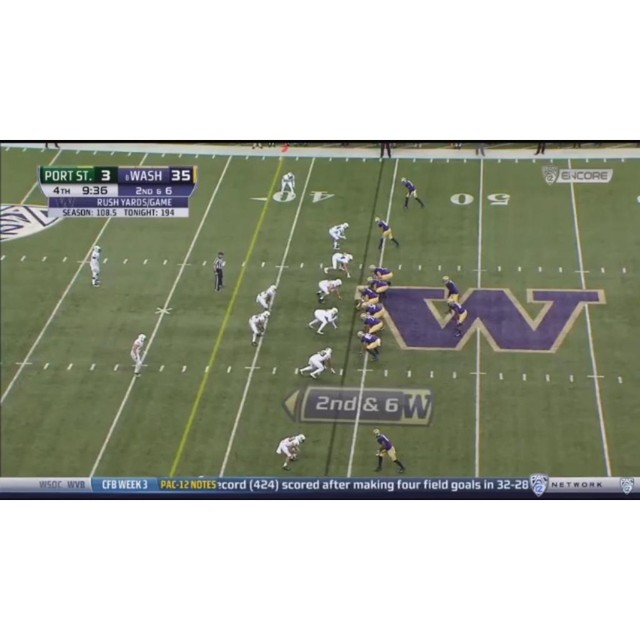american-football-player: (373, 427, 406, 473), (296, 347, 336, 378), (275, 432, 307, 470), (443, 295, 468, 337), (374, 216, 400, 250), (307, 308, 339, 335), (356, 330, 382, 362), (322, 252, 354, 278), (248, 310, 271, 346), (401, 178, 425, 209), (130, 333, 147, 376), (316, 278, 343, 303), (256, 284, 277, 313), (359, 312, 384, 336), (328, 222, 350, 249), (89, 245, 103, 287), (355, 299, 385, 318), (355, 284, 381, 304), (369, 264, 393, 285), (368, 276, 390, 298)
referee: (213, 251, 226, 291)
